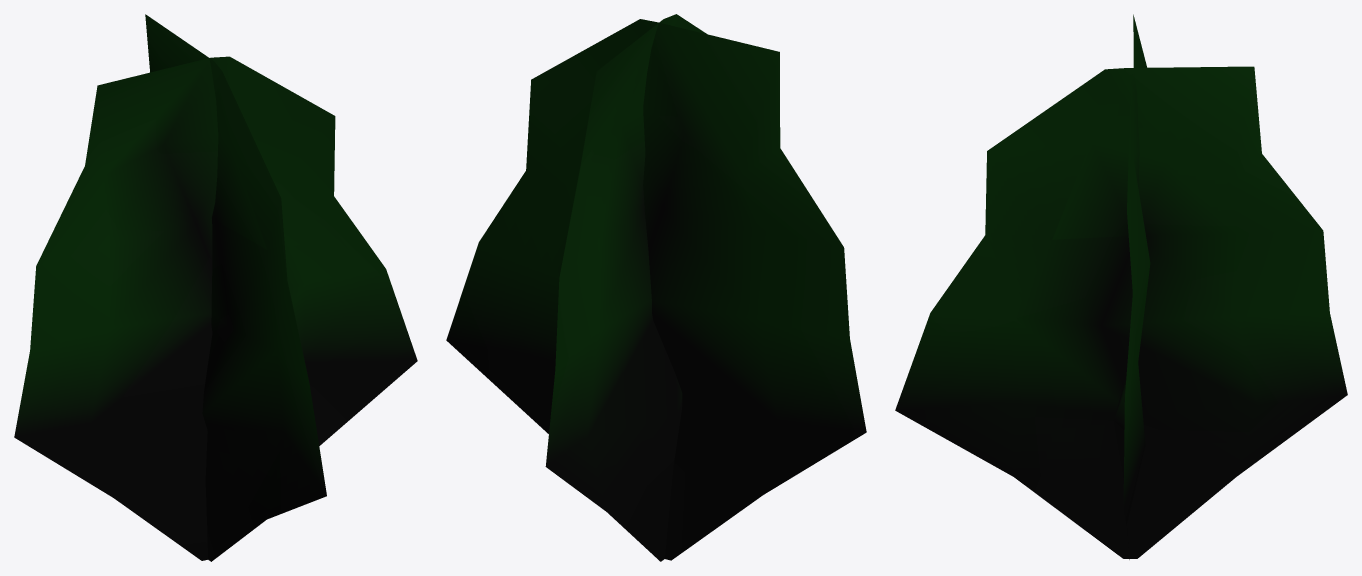
File: BeechBushIFall_afsTREE _xlod00_xlp.fbx
The picture shows the model from 3 angles, left to right: view 1: azimuth 30°, elevation 25°; view 2: azimuth 150°, elevation 25°; view 3: azimuth 270°, elevation 25°; orthographic projection. The views are drawn at different scales.
Parts seen in each view (by area): view 1: Leaf; view 2: Leaf; view 3: Leaf.
Boxes of the visible parts, x1,y1,x2,y2 form: Leaf: (14, 14, 417, 561); Leaf: (446, 14, 866, 561); Leaf: (895, 14, 1347, 559).
Bounding box in the file's own units: 0.4491 × 0.5395 × 0.4493.
